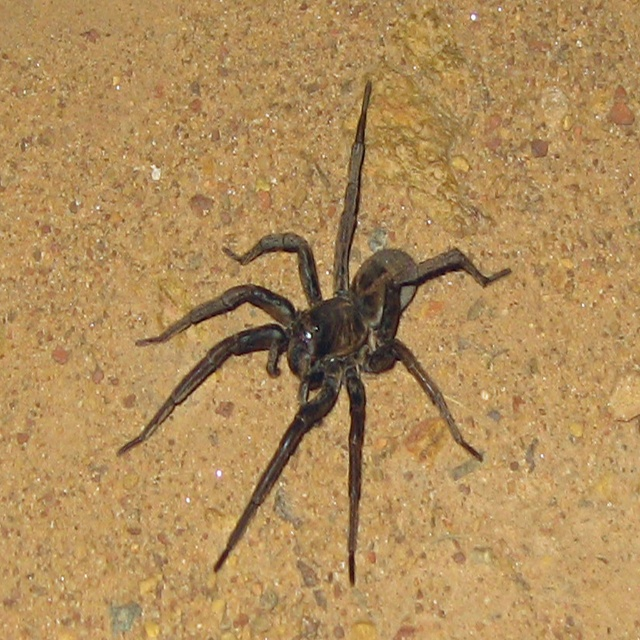Spider: (116, 79, 512, 588)
